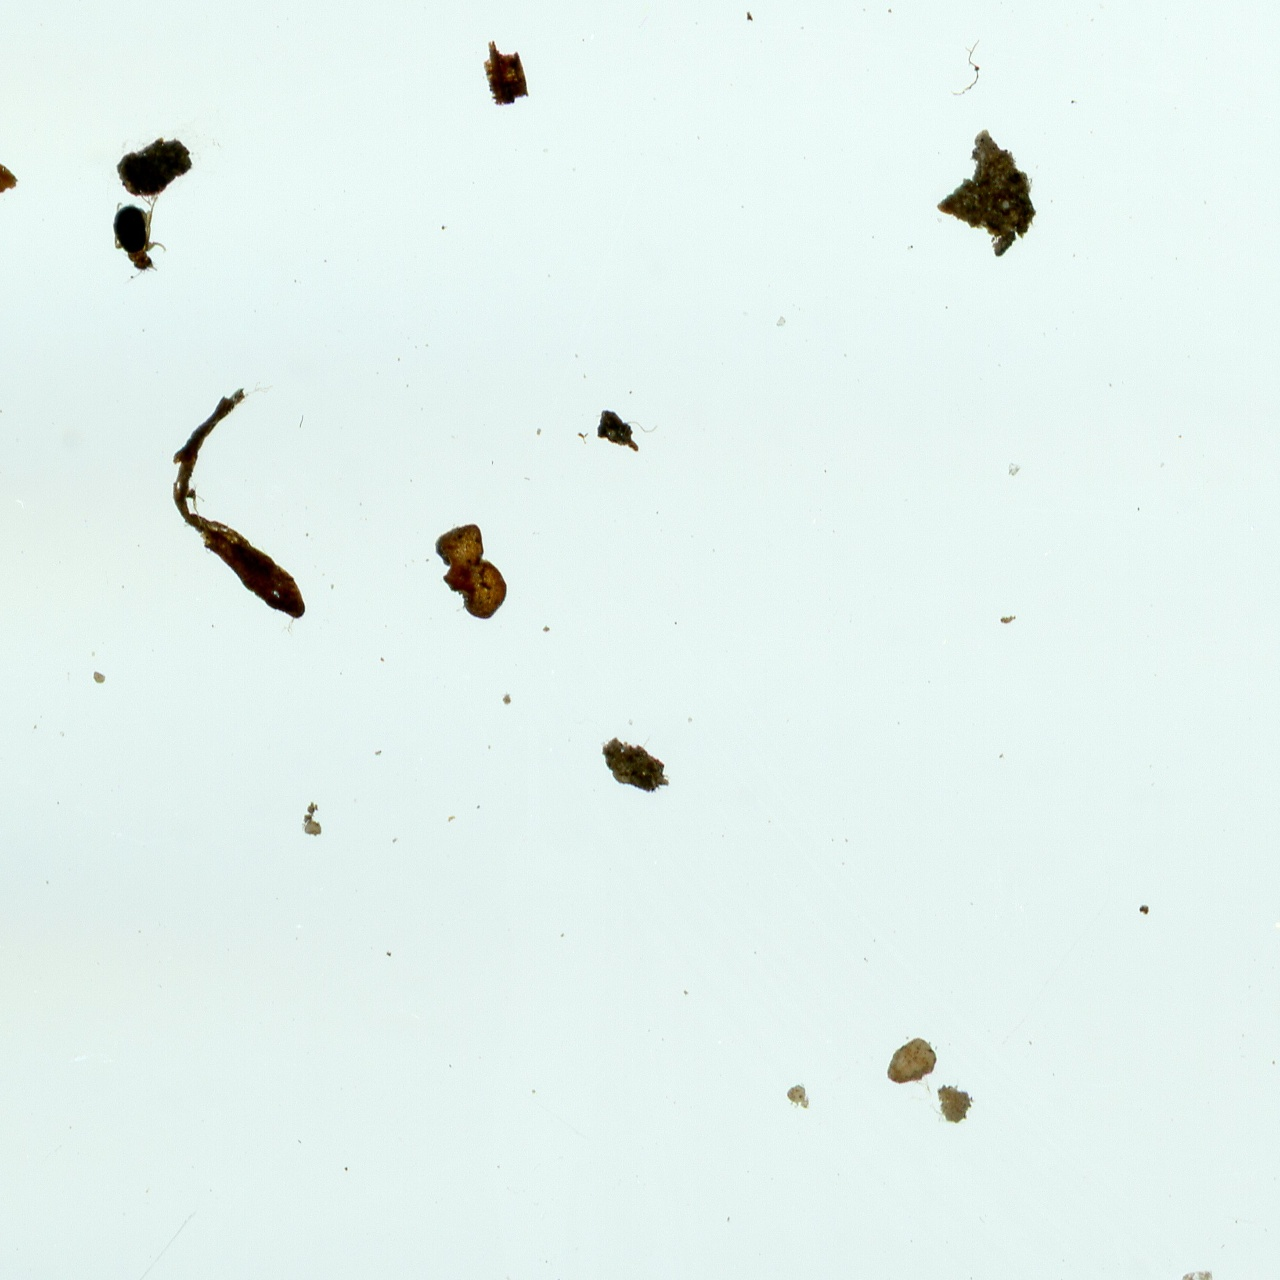arthropod: (109, 191, 171, 290)
